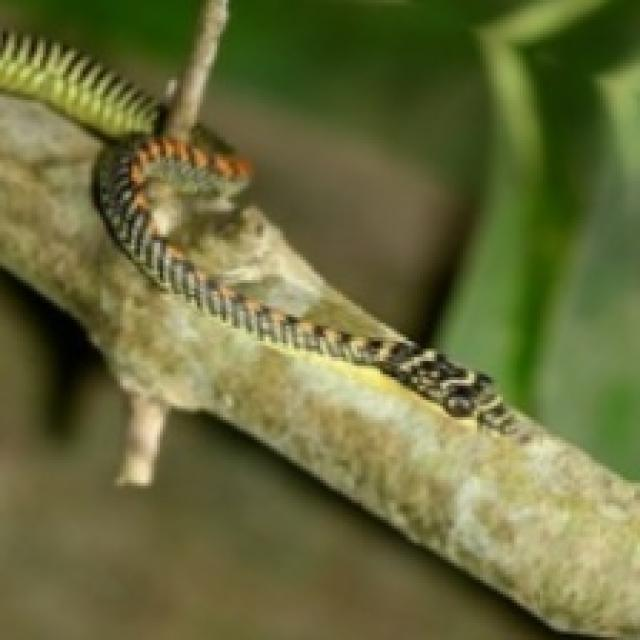paradise tree snake: (0, 0, 514, 431)
